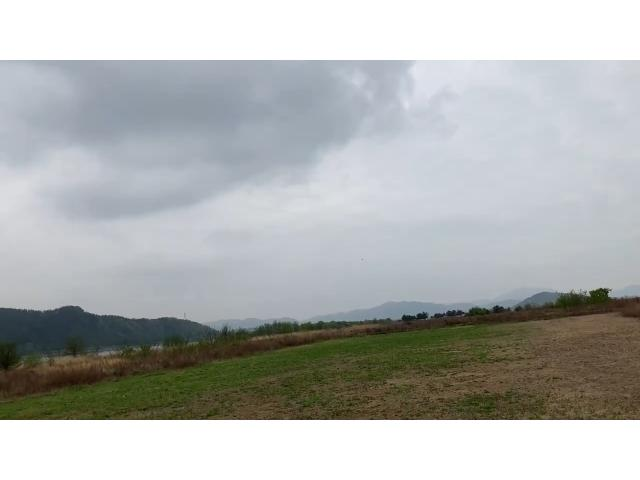Anti-Drone: (348, 250, 380, 270)
